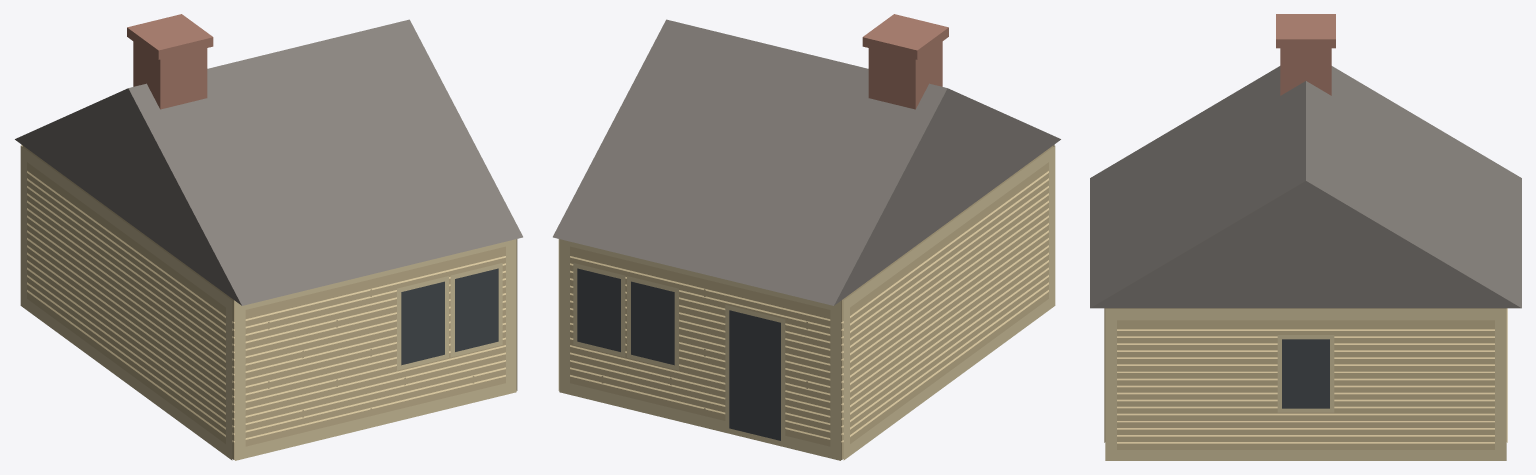
The model's file is recon_1835_north_d3_006__inferred_1835.glb.
The picture shows the model from 3 angles, left to right: view 1: azimuth 30°, elevation 25°; view 2: azimuth 150°, elevation 25°; view 3: azimuth 270°, elevation 25°; orthographic projection. The views are drawn at different scales.
Parts seen in each view (by area): view 1: recon_1835_north_d3_006__inferred_1835; view 2: recon_1835_north_d3_006__inferred_1835; view 3: recon_1835_north_d3_006__inferred_1835.
Part boxes in pixels (box(x1,y1,x2,y2)): recon_1835_north_d3_006__inferred_1835: box(15, 14, 522, 460); recon_1835_north_d3_006__inferred_1835: box(553, 14, 1060, 460); recon_1835_north_d3_006__inferred_1835: box(1090, 14, 1521, 460).
Bounding box in the file's own units: 5.11 × 5.81 × 7.05.
